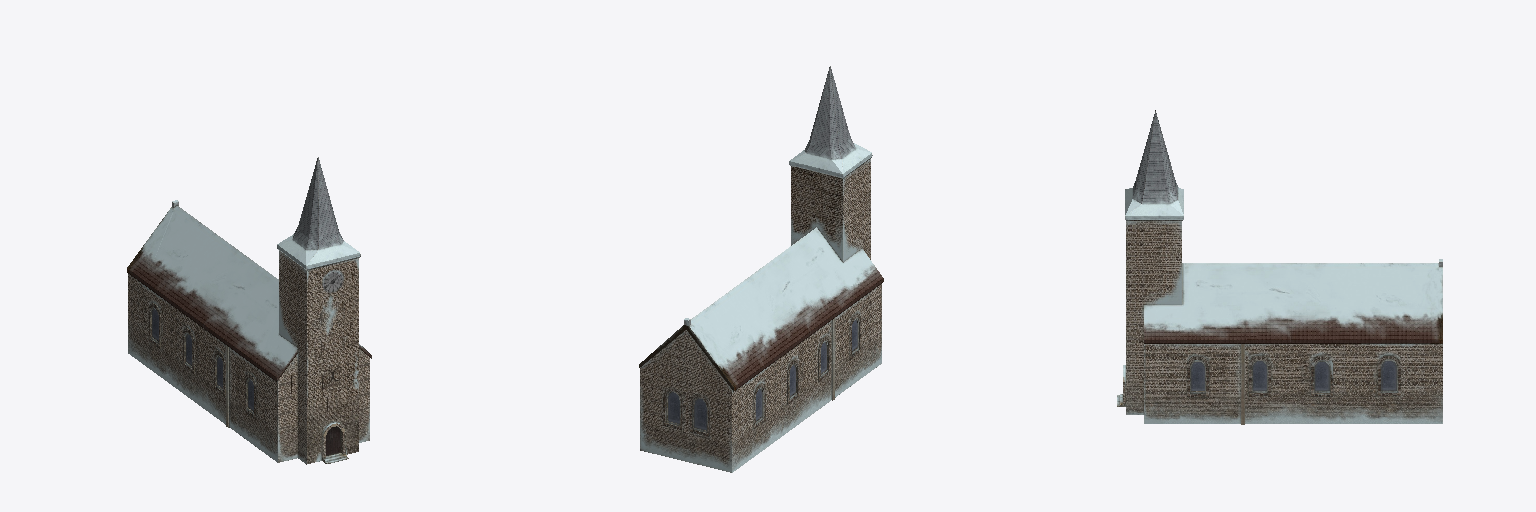
3 renders of one model, left to right at view 1: azimuth 30°, elevation 25°; view 2: azimuth 150°, elevation 25°; view 3: azimuth 270°, elevation 25°, orthographic.
Parts seen in each view (by area): view 1: Object_totalTexturePNG.jpg; view 2: Object_totalTexturePNG.jpg; view 3: Object_totalTexturePNG.jpg.
Part boxes in pixels (x1,y1,x2,y2): Object_totalTexturePNG.jpg: (127,157,371,464); Object_totalTexturePNG.jpg: (639,66,883,472); Object_totalTexturePNG.jpg: (1117,110,1442,424).
Bounding box in the file's own units: 0.8387 × 2.46 × 2.5.
2 materials, 1 textured.